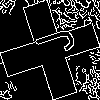J: (25, 25, 77, 63)
